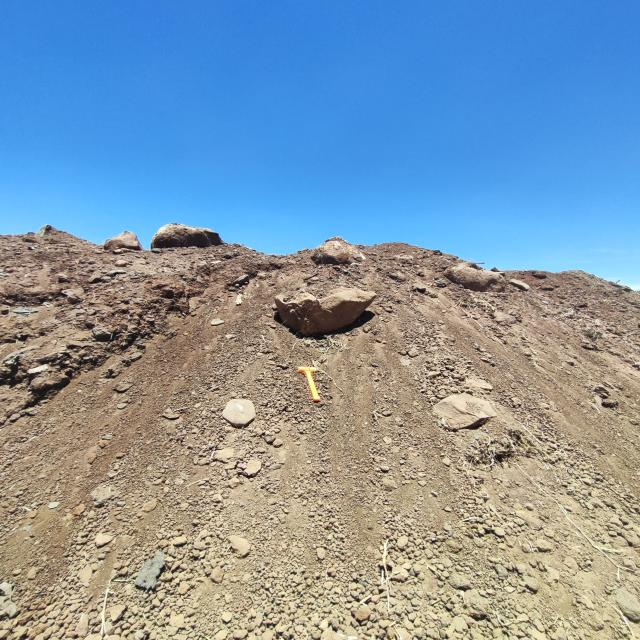Orange_hammer: (296, 365, 321, 402)
